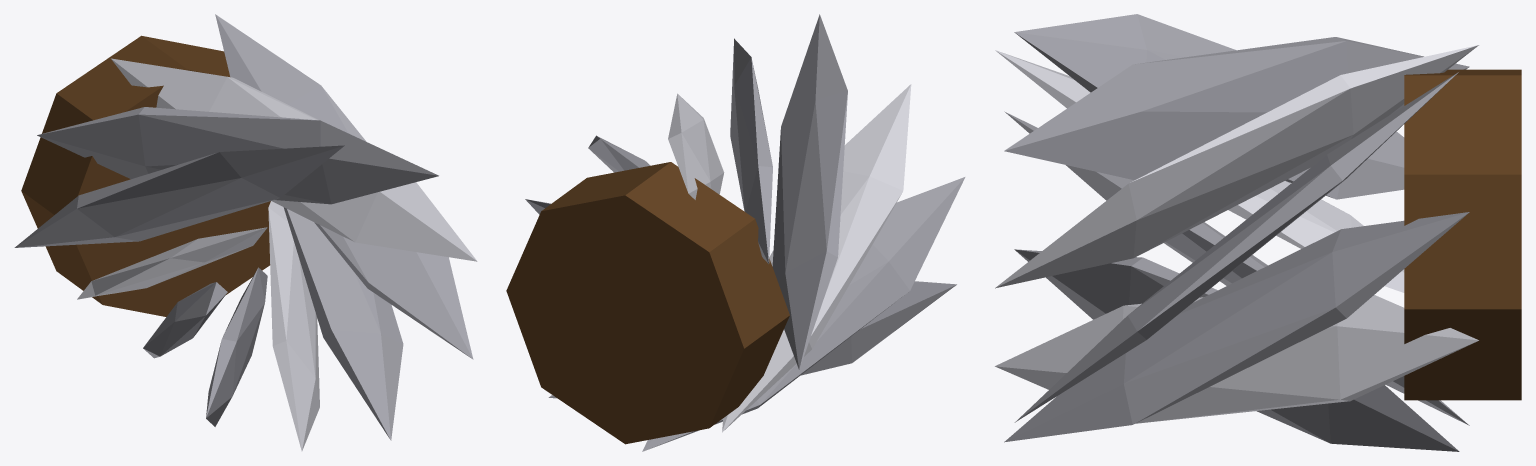
Rendered from 3_growing.obj.
3 renders of one model, left to right at view 1: azimuth 30°, elevation 25°; view 2: azimuth 150°, elevation 25°; view 3: azimuth 270°, elevation 25°, orthographic. The views are drawn at different scales.
Visible parts, largest first — view 1: kwuarm_3_growing; view 2: kwuarm_3_growing; view 3: kwuarm_3_growing.
Boxes of the visible parts, <box> form: kwuarm_3_growing: <box>14,14,477,451</box>; kwuarm_3_growing: <box>506,14,965,451</box>; kwuarm_3_growing: <box>995,14,1521,451</box>.
Bounding box in the file's own units: 0.1511 × 0.1483 × 0.1797.
